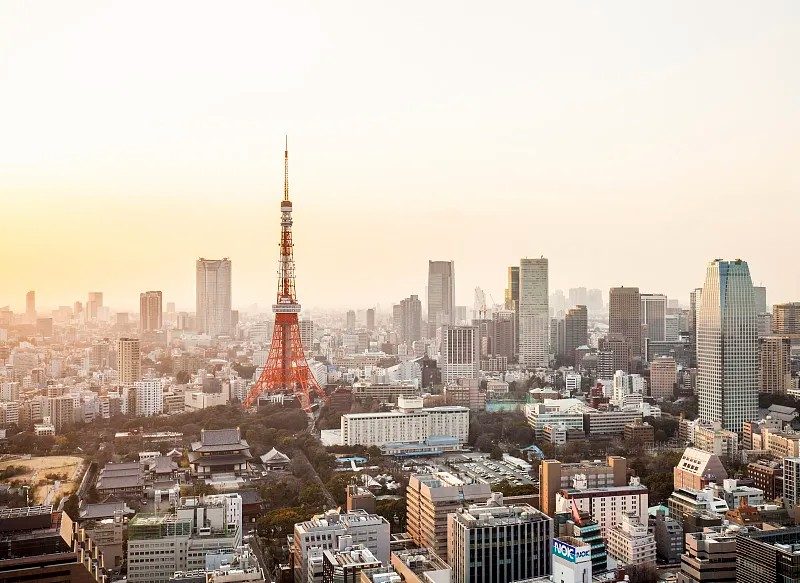Tokyo: (242, 128, 334, 412)
